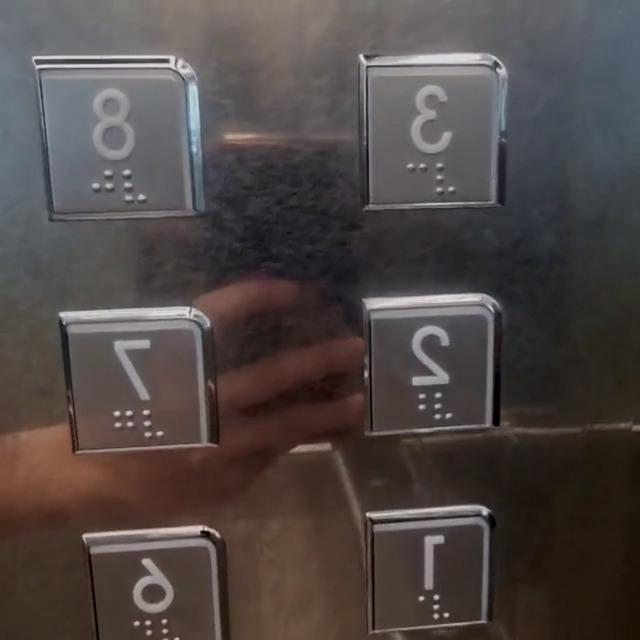button: (60, 305, 215, 460), (43, 57, 190, 214), (362, 53, 509, 209), (358, 301, 500, 441), (363, 493, 497, 633), (84, 530, 235, 640)
